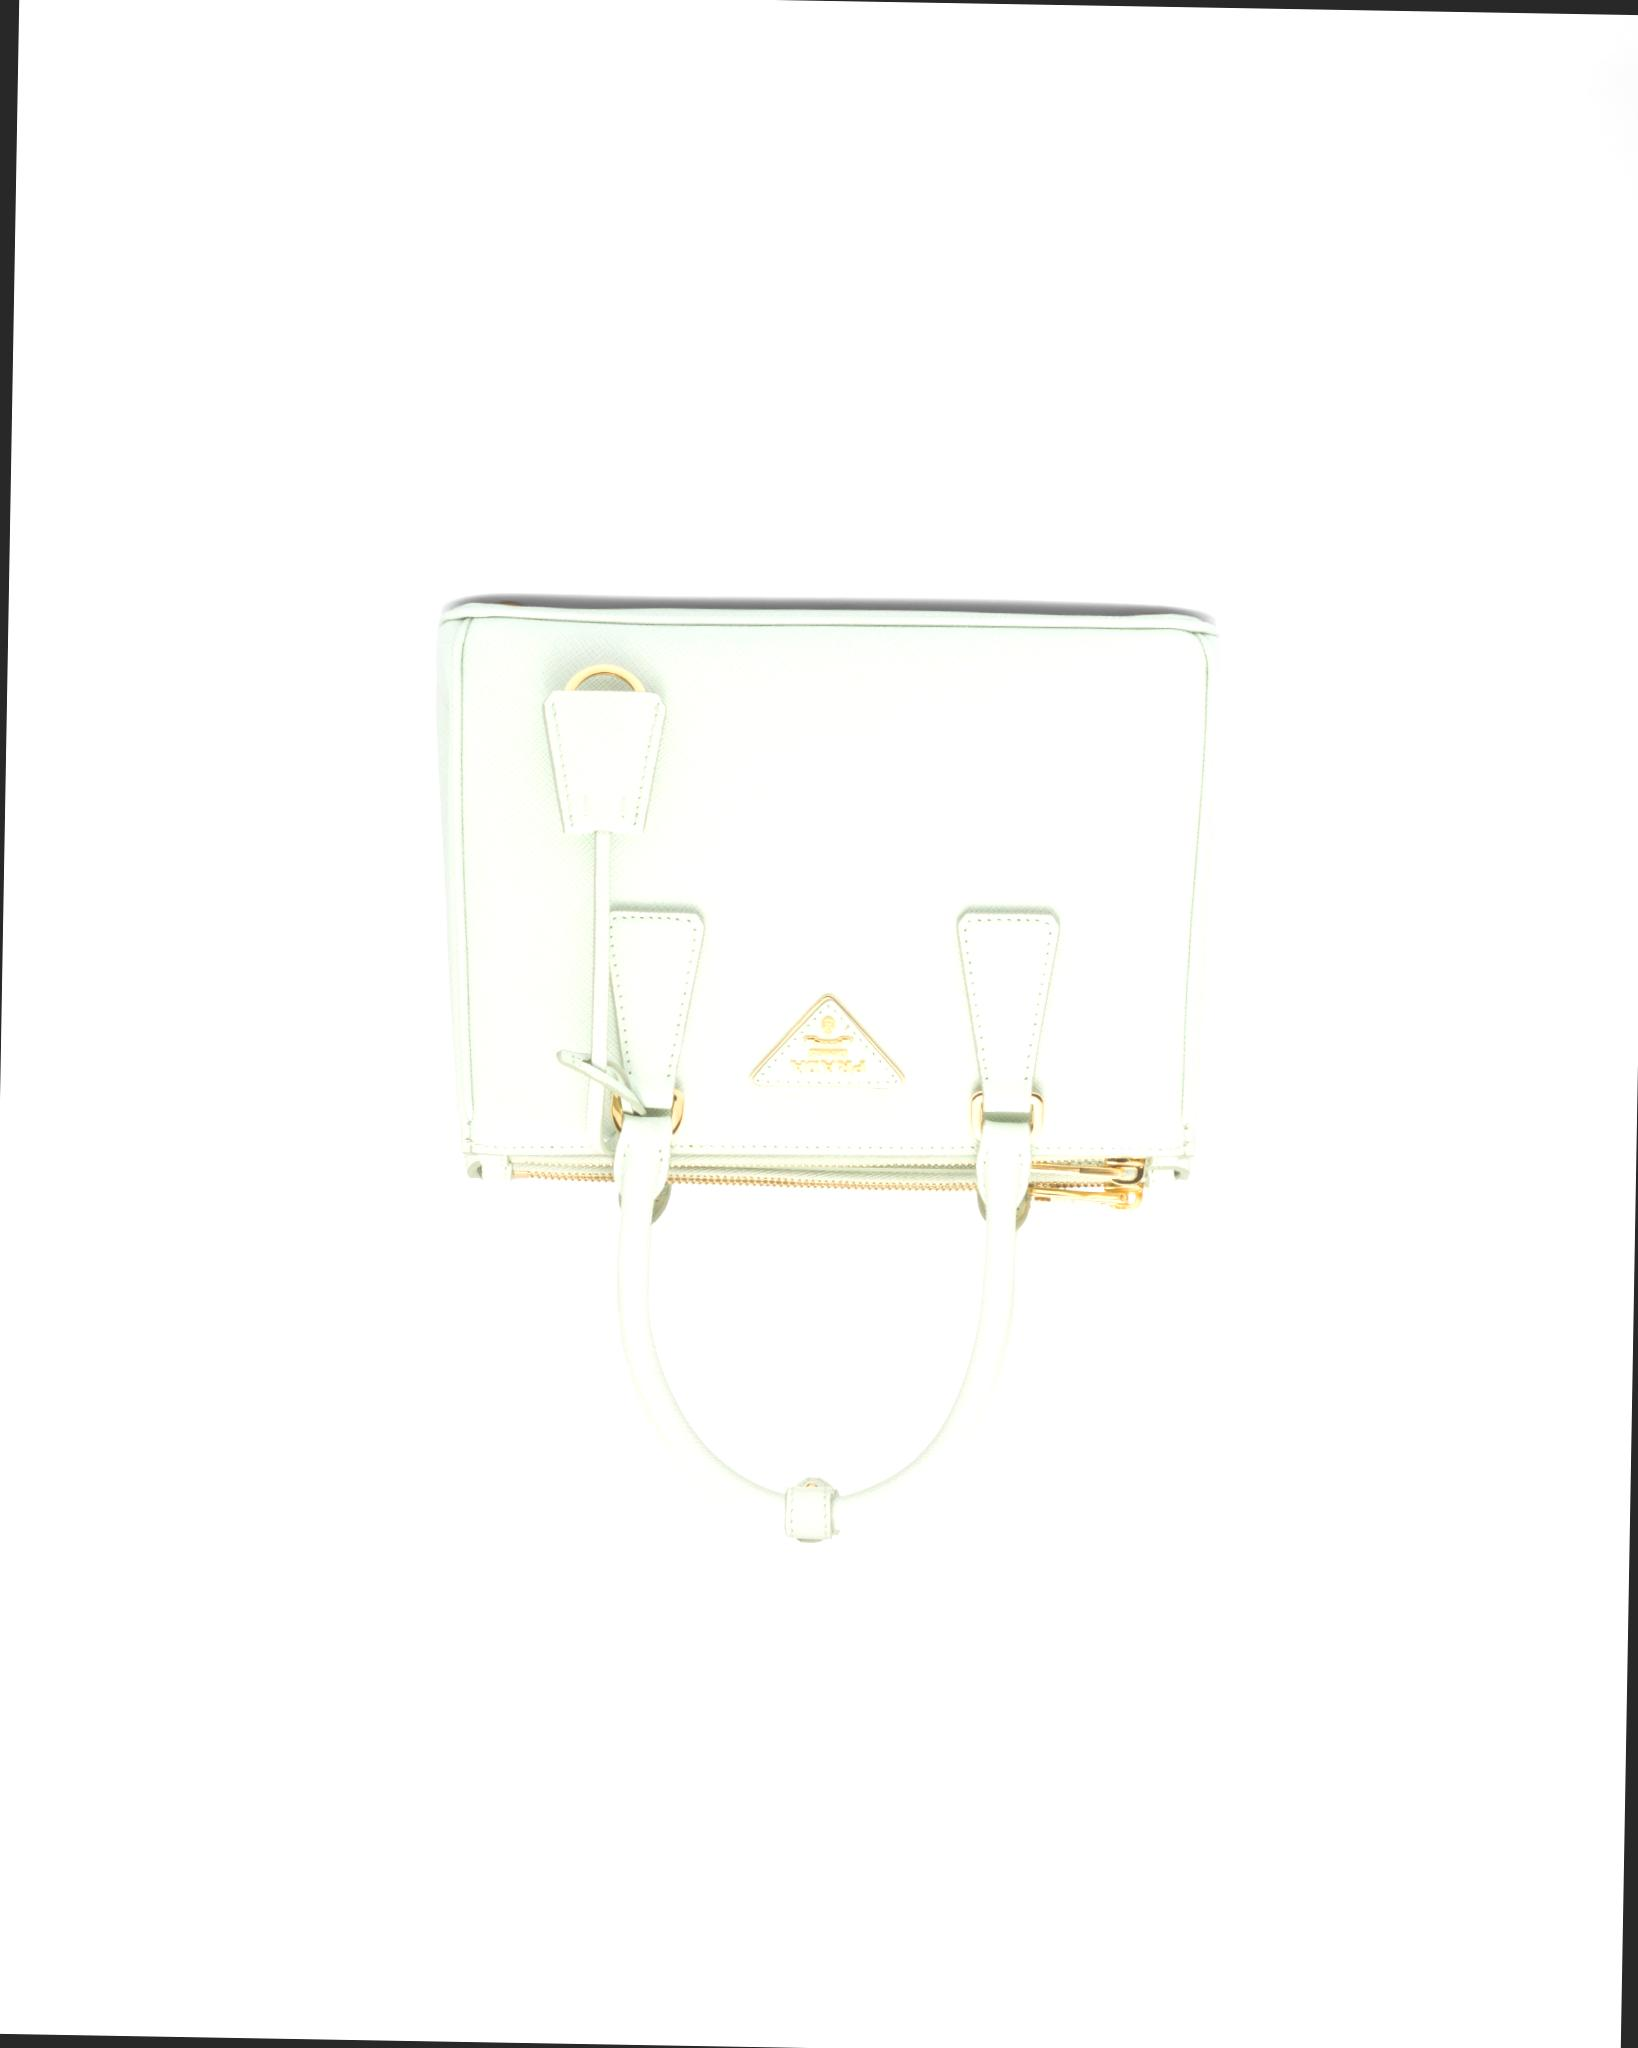PRADA: (750, 993, 903, 1090)
